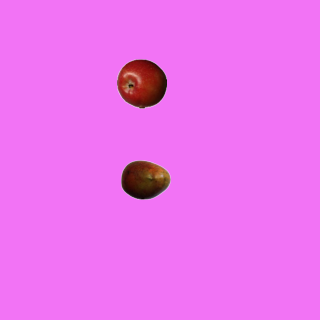Apple Braeburn: (116, 58, 166, 108)
Mango Red: (120, 154, 170, 204)
